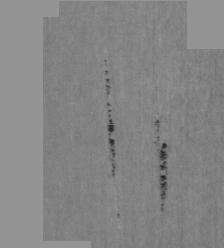oxl: (35, 10, 189, 238)
